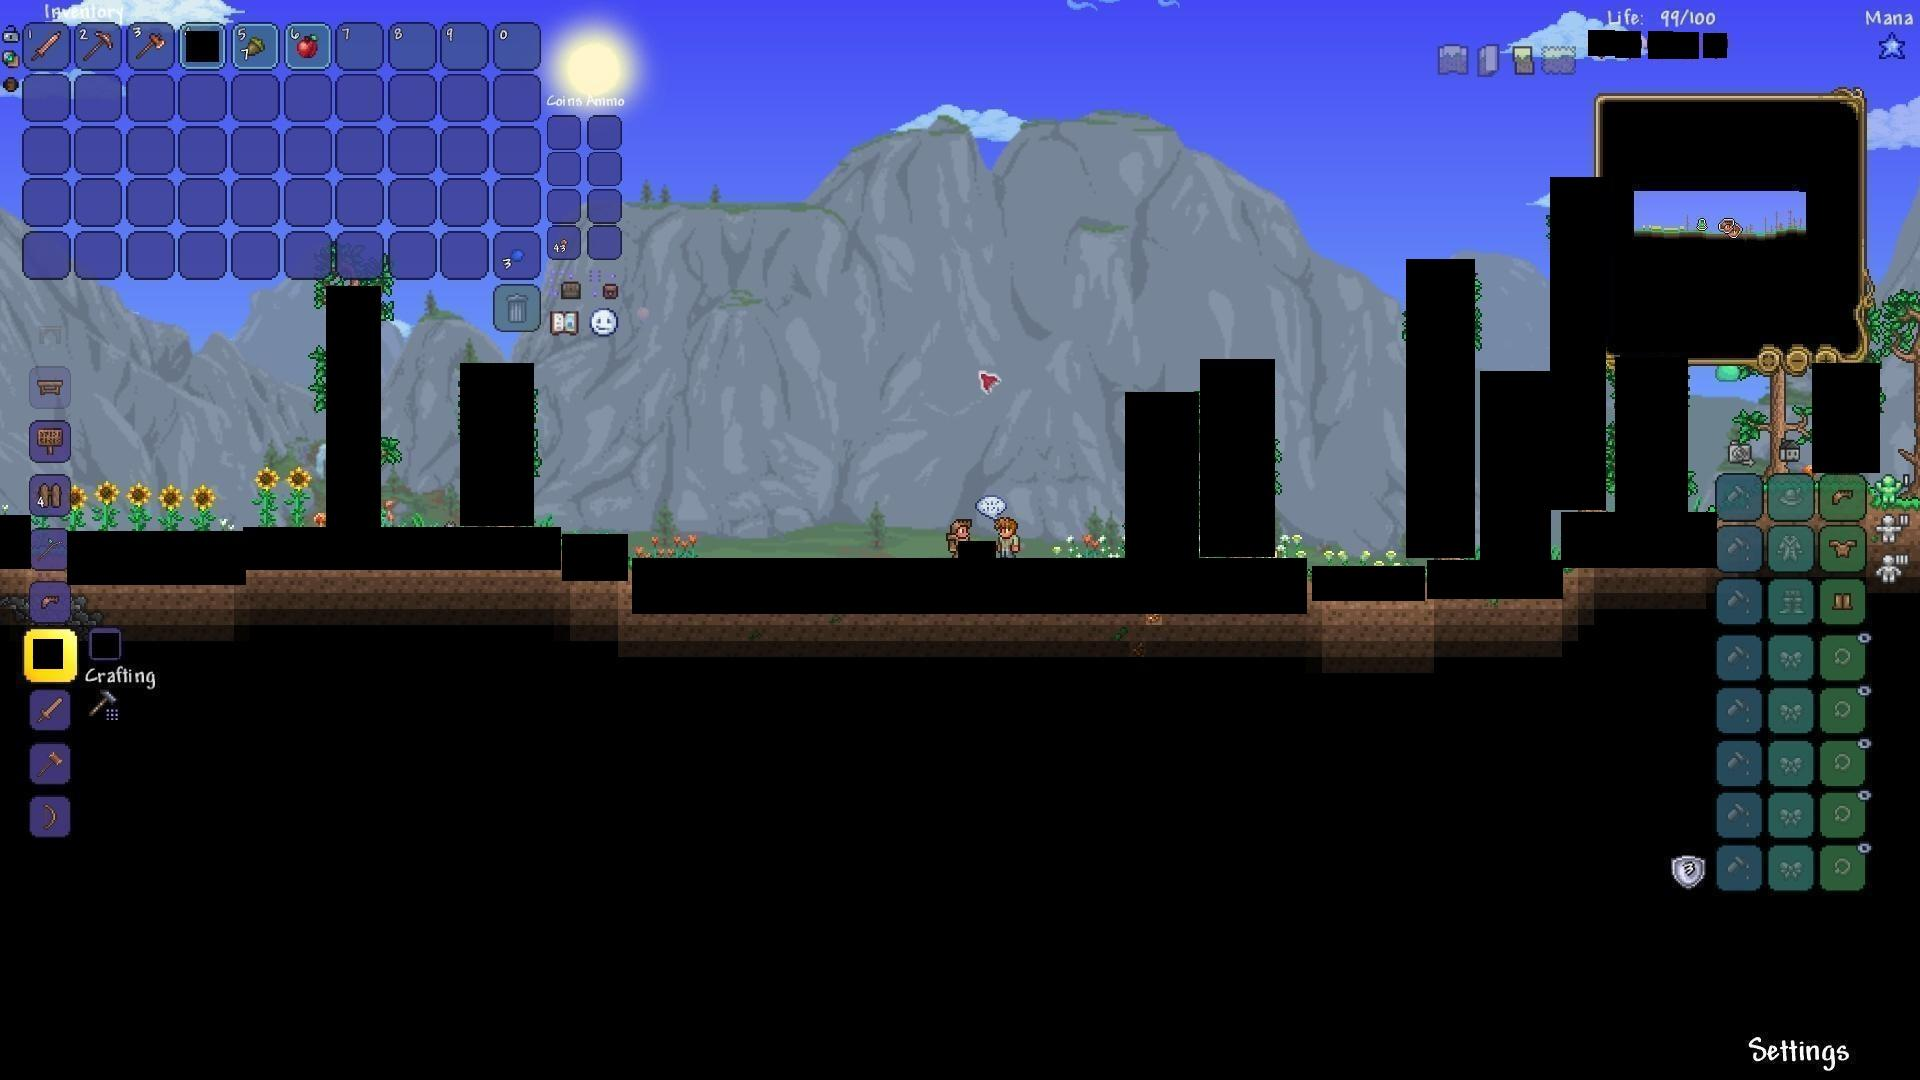breastplate: (1830, 537, 1859, 558)
helmet: (1829, 483, 1859, 512), (34, 588, 65, 616)
legs: (1832, 587, 1855, 616)
slime: (1716, 360, 1741, 388)
tree: (1745, 372, 1811, 481)
workbench: (30, 375, 67, 400)
